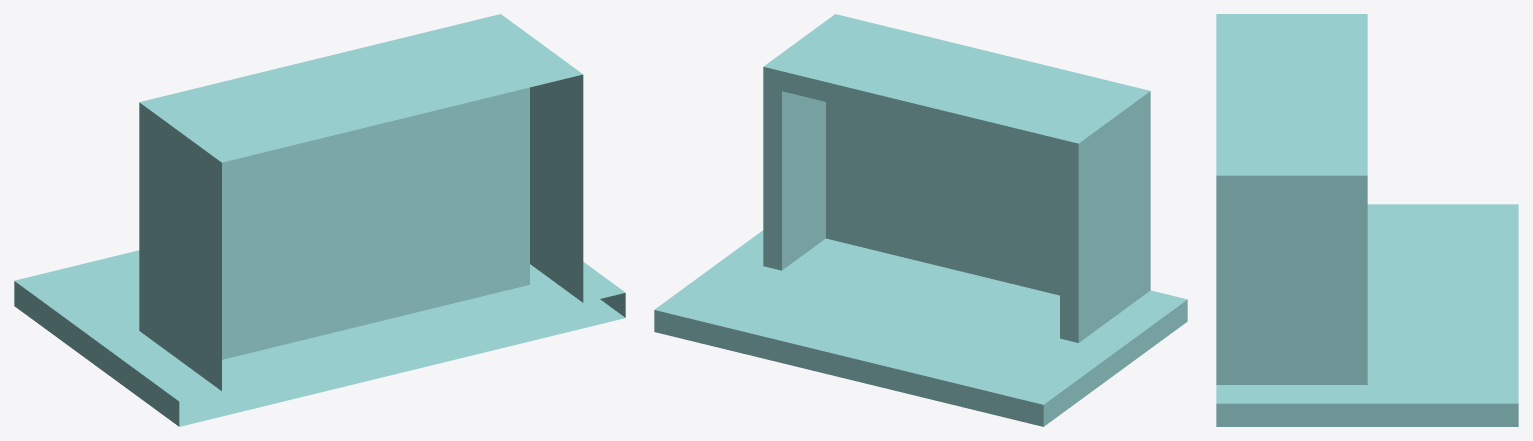
File: window.fbx
3 renders of one model, left to right at view 1: azimuth 30°, elevation 25°; view 2: azimuth 150°, elevation 25°; view 3: azimuth 270°, elevation 25°, orthographic. The views are drawn at different scales.
Parts seen in each view (by area): view 1: window; view 2: window; view 3: window.
Part boxes in pixels (left/top/right/bottom): window: left=14, top=14, right=625, bottom=426; window: left=654, top=14, right=1187, bottom=426; window: left=1216, top=14, right=1518, bottom=426.
Size of the model in its own units: 3.7 by 2.01 by 2.37.
